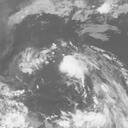cyclone: (50, 45, 93, 81)
